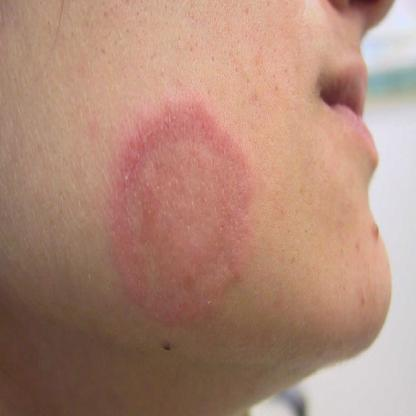Ringworm: (96, 84, 263, 335)
